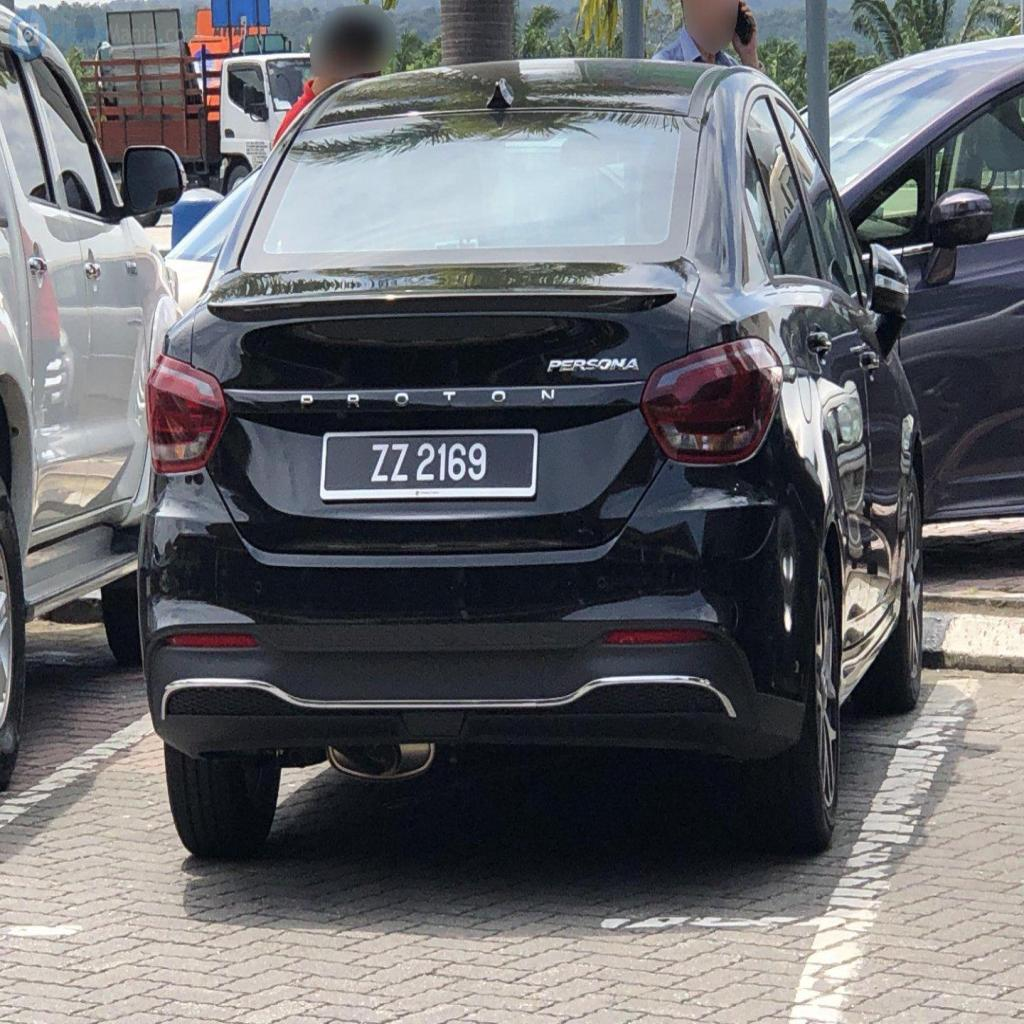car: (140, 59, 921, 855)
car plate: (320, 429, 537, 499)
